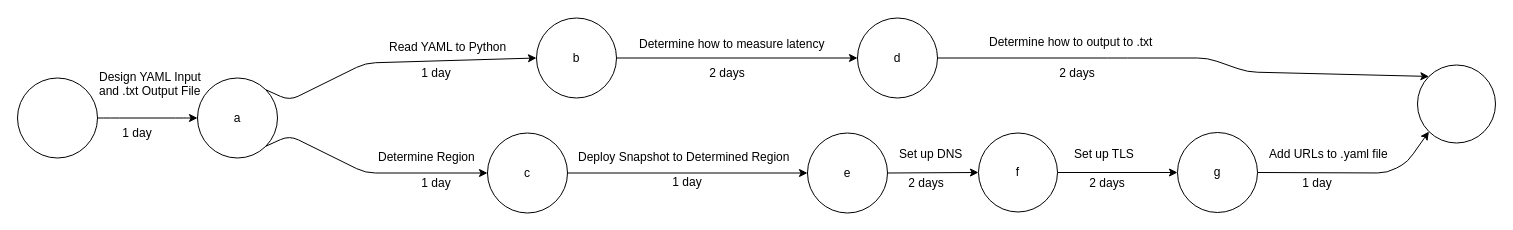
This 1513x230 diagram has some shape labels left out. The shapes that lost their labels are listed below. From the top down, each one's centre as x and y in pixels, then its label:
At pixel 57 117: "Start".
At pixel 1456 103: "finish".
